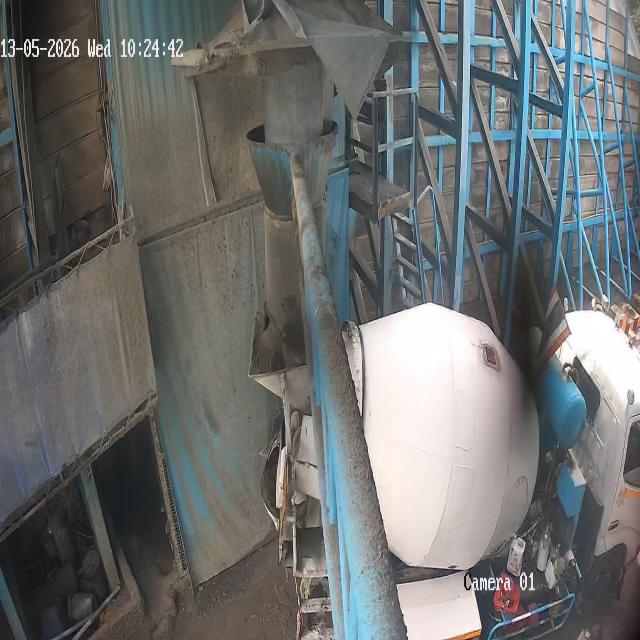cement_mixer_truck: (251, 293, 639, 640)
swing_chute: (245, 119, 347, 348)
